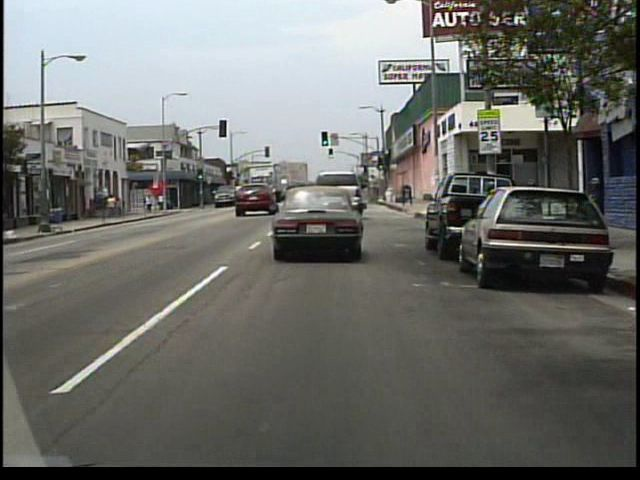person: (108, 195, 118, 220), (117, 196, 124, 219), (146, 195, 154, 215)
